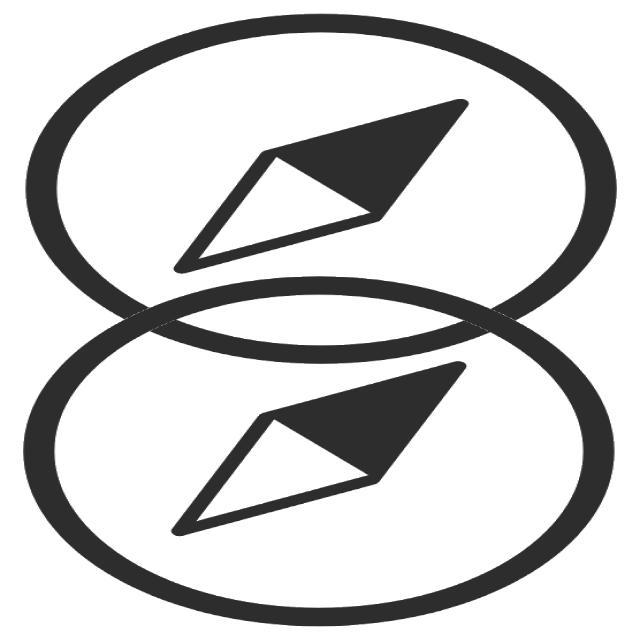compass: (13, 6, 627, 376), (14, 271, 623, 634)
